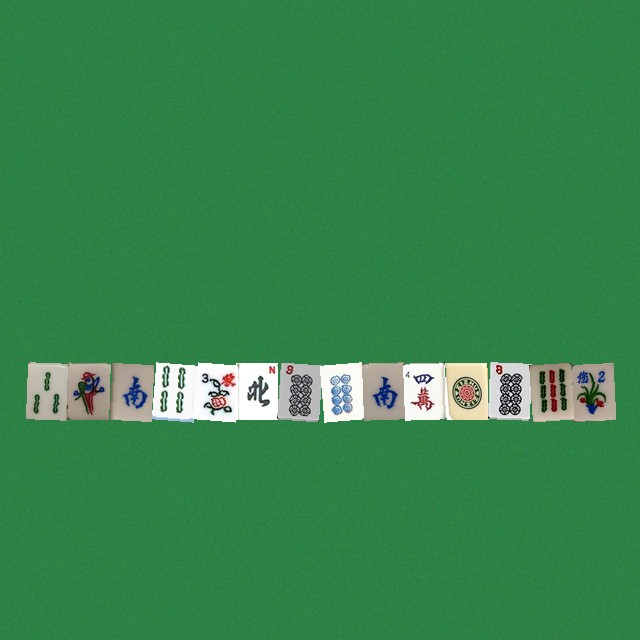tile: (25, 362, 67, 419), (67, 362, 109, 419), (109, 362, 151, 419), (151, 362, 193, 419), (193, 362, 235, 419), (235, 362, 277, 419), (277, 362, 319, 419), (319, 362, 361, 419), (361, 362, 403, 419), (403, 362, 445, 419), (445, 362, 487, 419), (487, 362, 529, 419), (529, 362, 571, 419), (571, 362, 613, 419)
